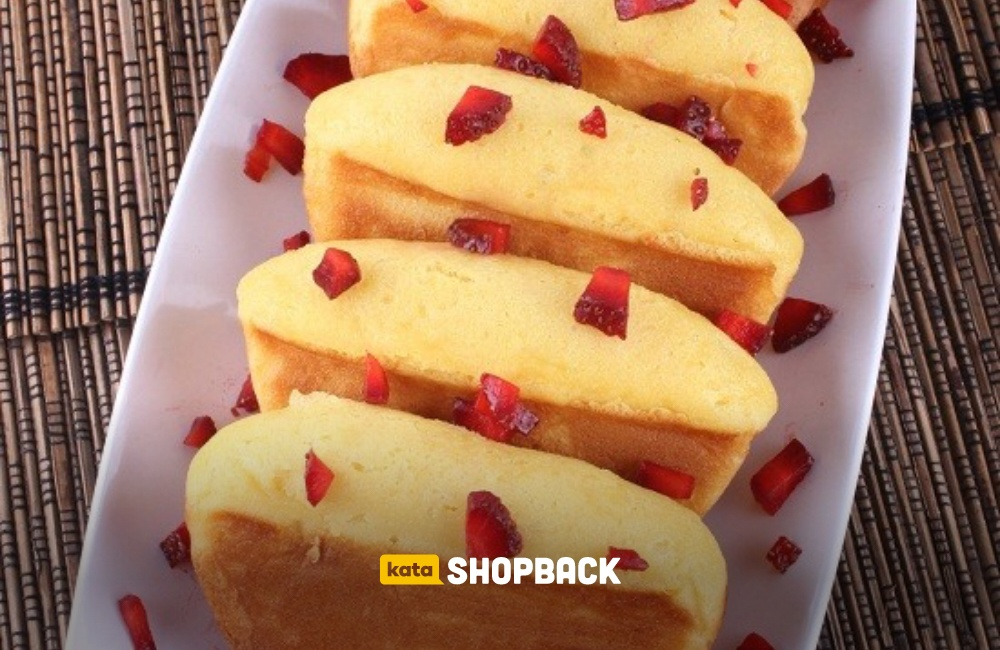pukis: (131, 387, 742, 633)
